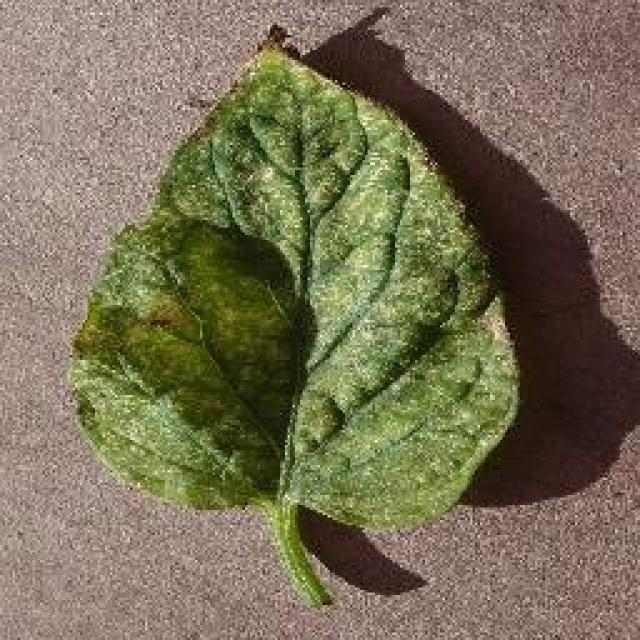Tom_Spider_mites Two-spotted_spider_mite: (138, 142, 438, 452)
